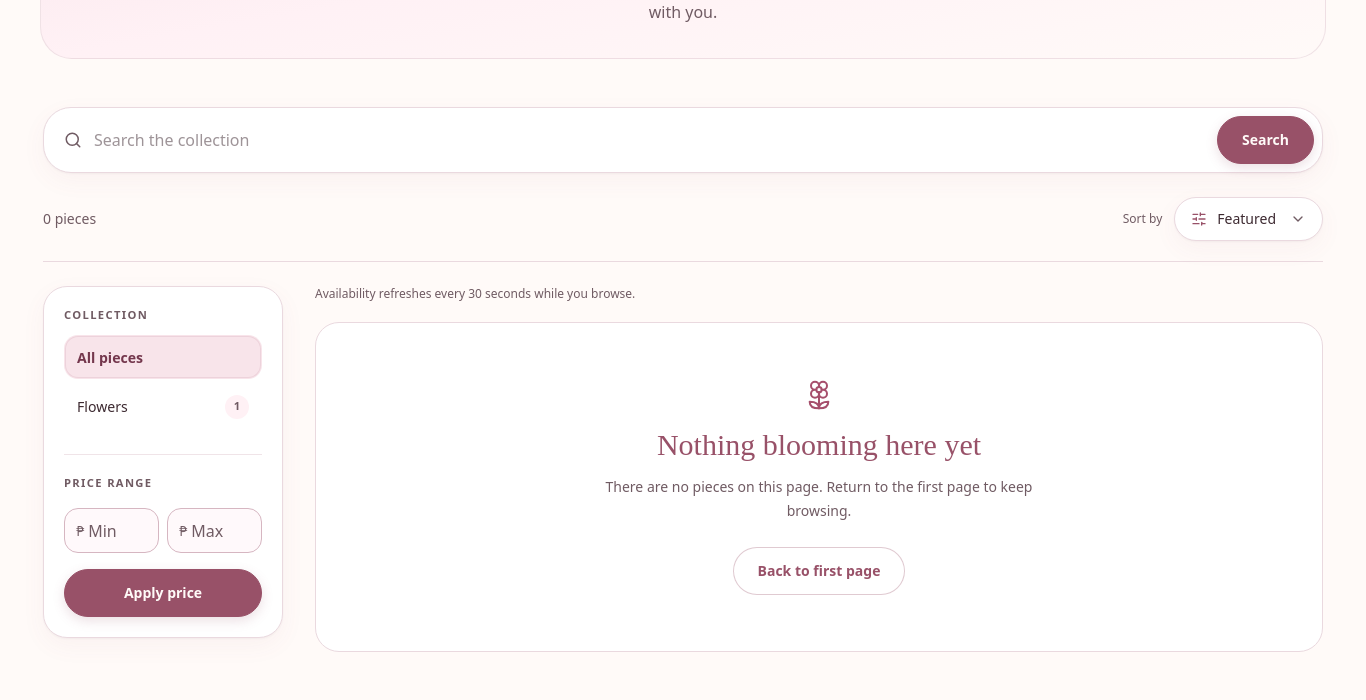
Test: catalog pages › offers recovery when the requested page no longer has products
The width and height of the screenshot is (1366, 700).
(page scrolled)
Click the button "Back to first page" at (819, 571), box 732,547 -> 905,595
(page scrolled)
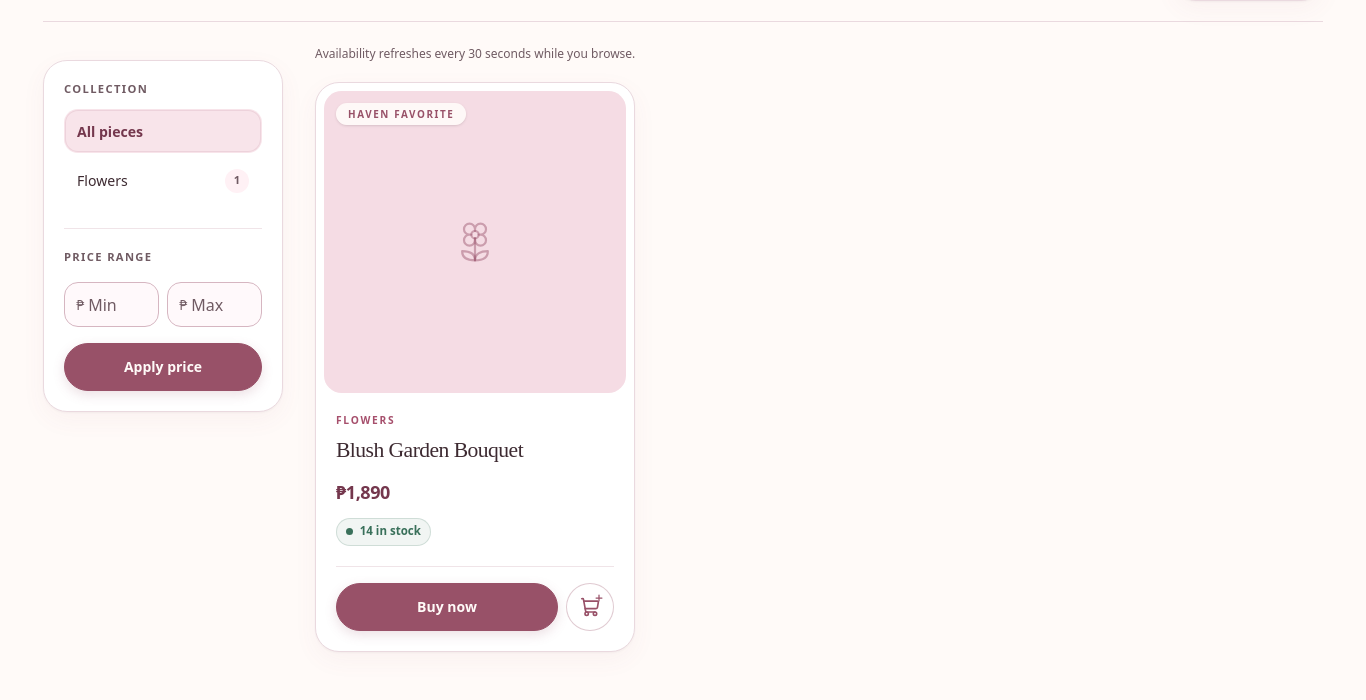
Check: the link "Blush Garden Bouquet" is shown, box 336,438 -> 523,462
Check: the heading "Nothing blooming here yet" is gone
